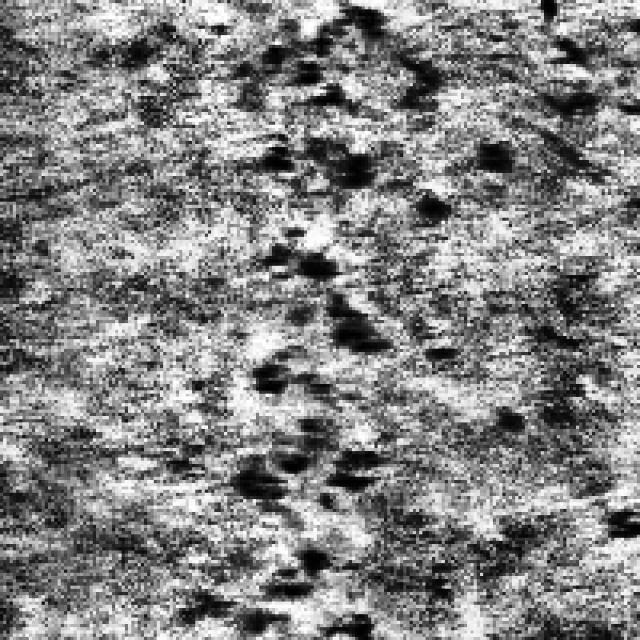Crazing: (224, 6, 410, 628), (384, 9, 611, 228)
